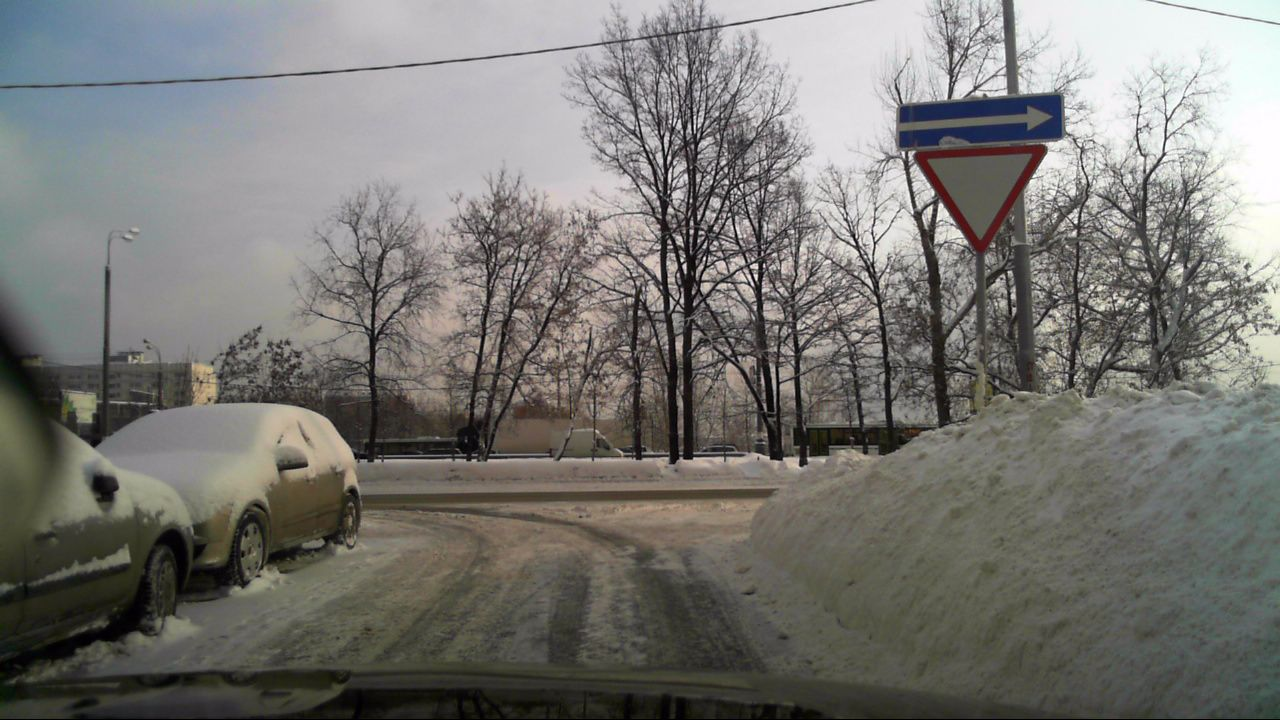One-Way Traffic: (896, 93, 1064, 148)
